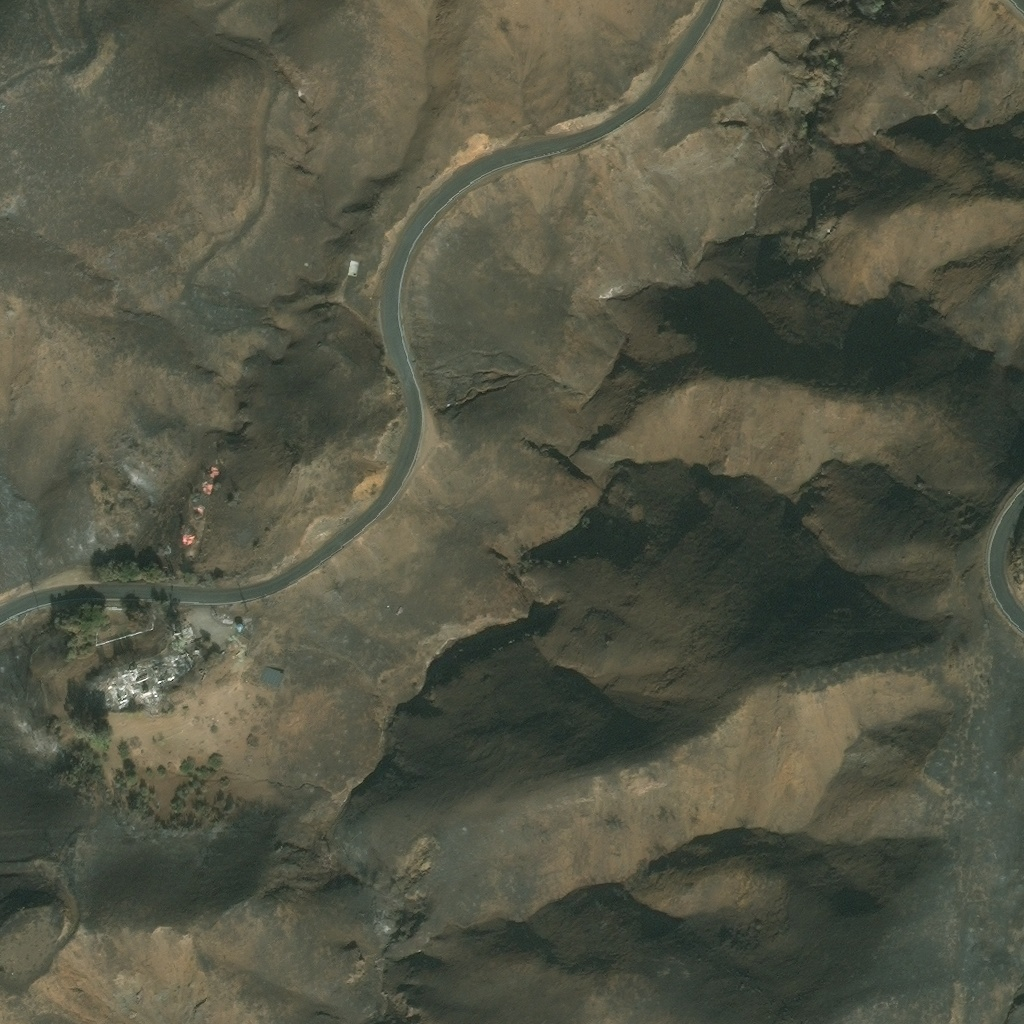0 no-damage: (258, 667, 283, 691), (234, 623, 244, 632)
2 major-damage: (194, 501, 204, 516), (203, 481, 214, 493), (180, 530, 195, 538)
3 destroyed: (90, 648, 198, 707), (171, 623, 196, 644), (346, 257, 358, 277)
